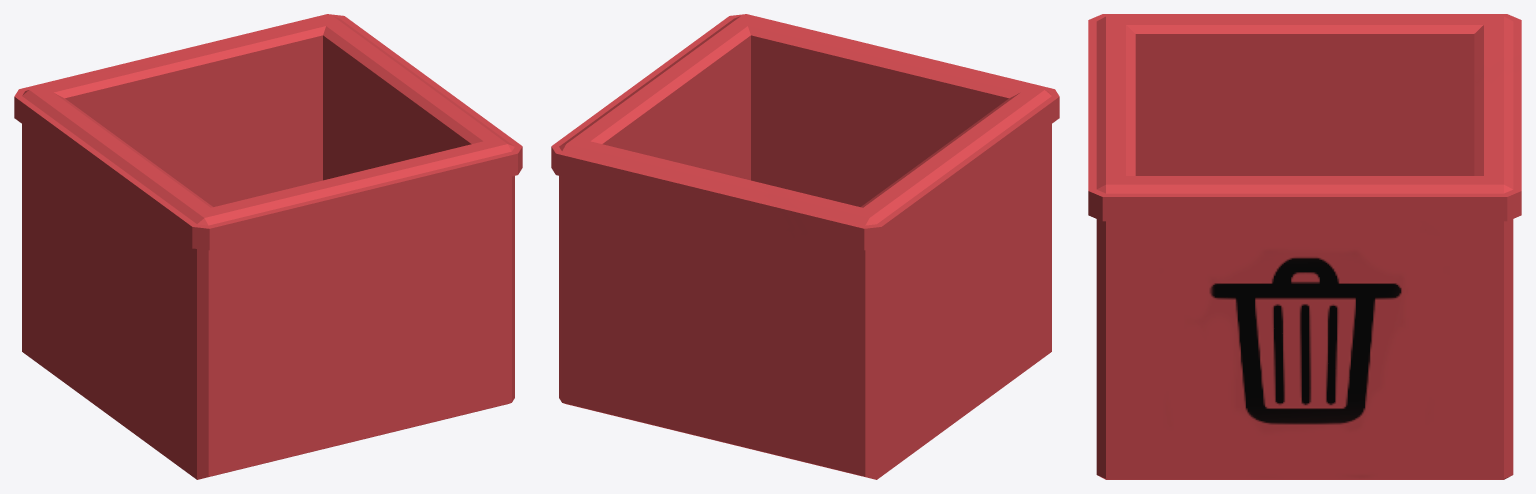
Rendered from TrashBin.fbx.
3 views of the same model, side by side, from view 1: azimuth 30°, elevation 25°; view 2: azimuth 150°, elevation 25°; view 3: azimuth 270°, elevation 25° (orthographic). The views are drawn at different scales.
Parts seen in each view (by area): view 1: TrashBin; view 2: TrashBin; view 3: TrashBin.
Part boxes in pixels (x1=…): TrashBin: x1=14, y1=14, x2=522, y2=479; TrashBin: x1=551, y1=14, x2=1059, y2=479; TrashBin: x1=1088, y1=14, x2=1521, y2=479.
Bounding box in the file's own units: 211 × 159 × 211.
